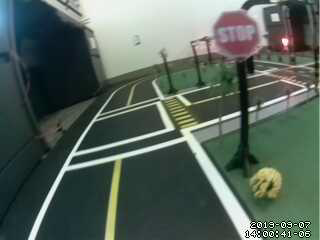Stop_Sign: (209, 8, 264, 55)
